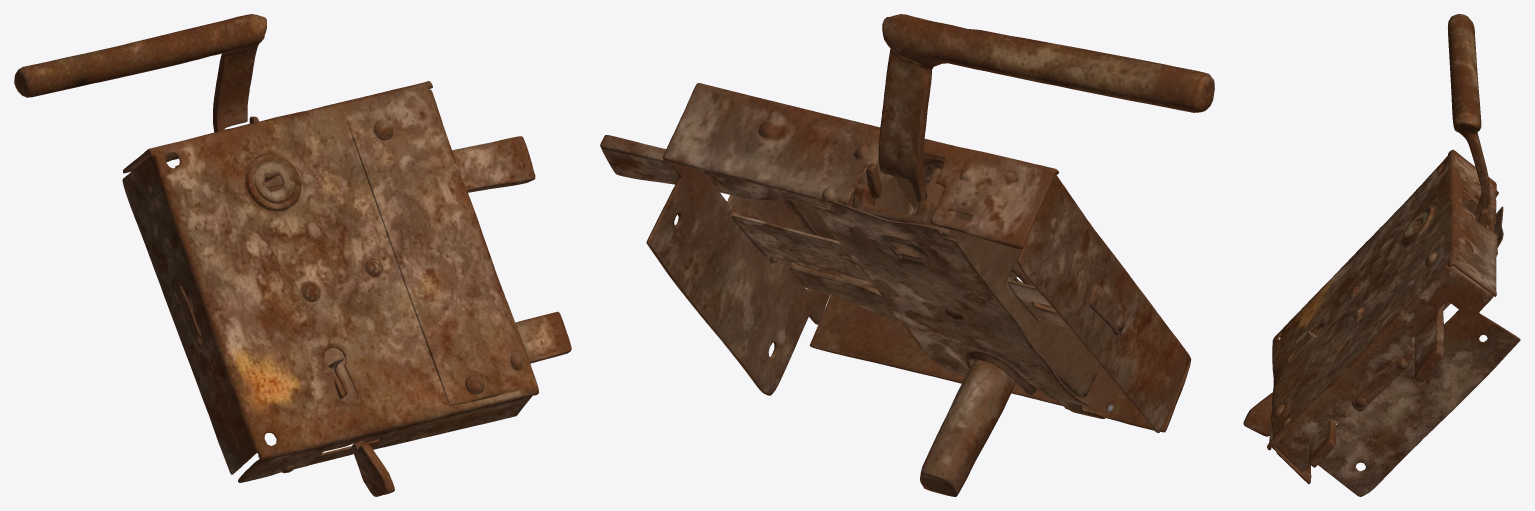
Rendered from brava.glb.
3 views of the same model, side by side, from view 1: azimuth 30°, elevation 25°; view 2: azimuth 150°, elevation 25°; view 3: azimuth 270°, elevation 25° (orthographic). The views are drawn at different scales.
Bounding box in the file's own units: 1.89 × 1.48 × 1.13.
Materials: 1 (1 with a texture image).
